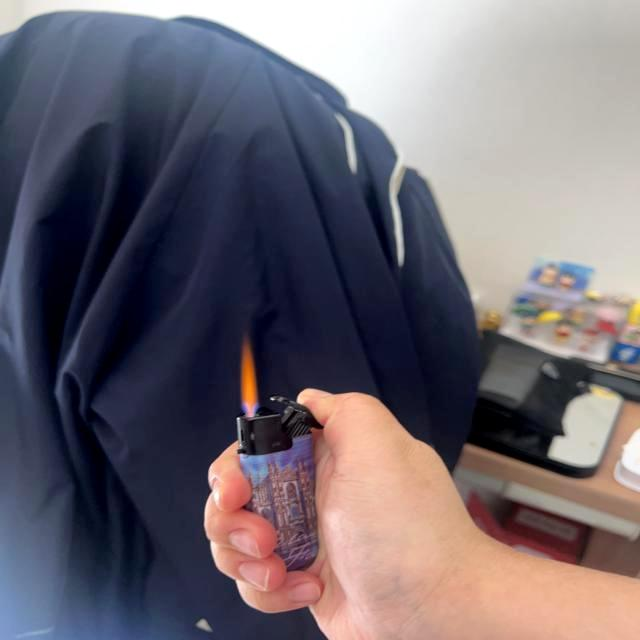fire: (237, 340, 261, 412)
